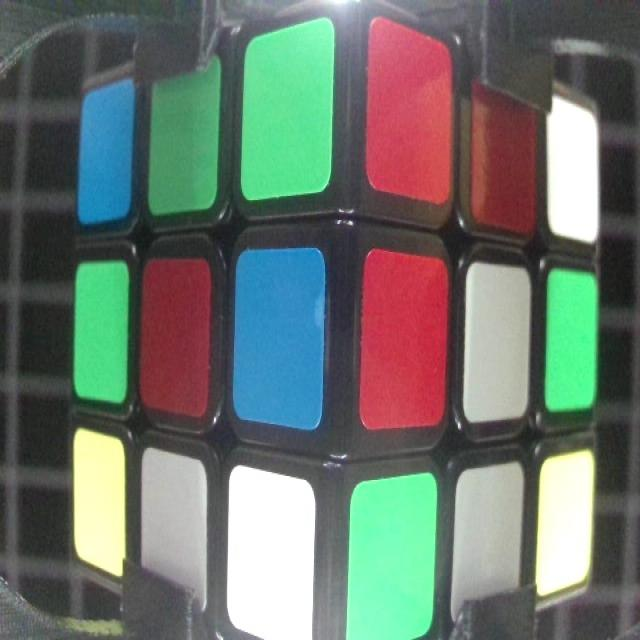b: (239, 250, 324, 422), (80, 79, 134, 221)
g: (344, 476, 438, 640), (246, 24, 333, 192), (152, 66, 216, 205), (544, 264, 600, 405), (75, 261, 127, 396)
r: (369, 19, 454, 205), (363, 250, 448, 430), (472, 66, 539, 231), (146, 258, 212, 417)
w: (229, 466, 318, 640), (138, 446, 208, 605), (457, 468, 523, 616), (468, 266, 529, 415), (542, 92, 596, 246)
y: (72, 428, 128, 569), (540, 453, 591, 595)
